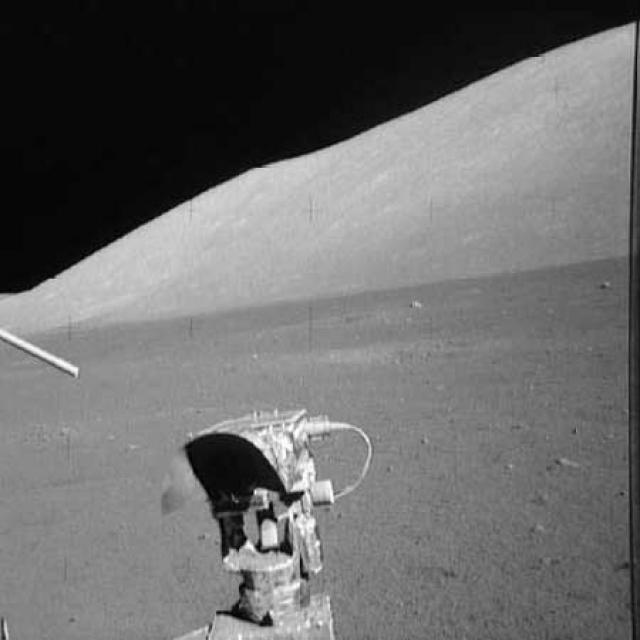artifact: (149, 396, 377, 638), (0, 319, 88, 391)
crater: (307, 304, 377, 330)
